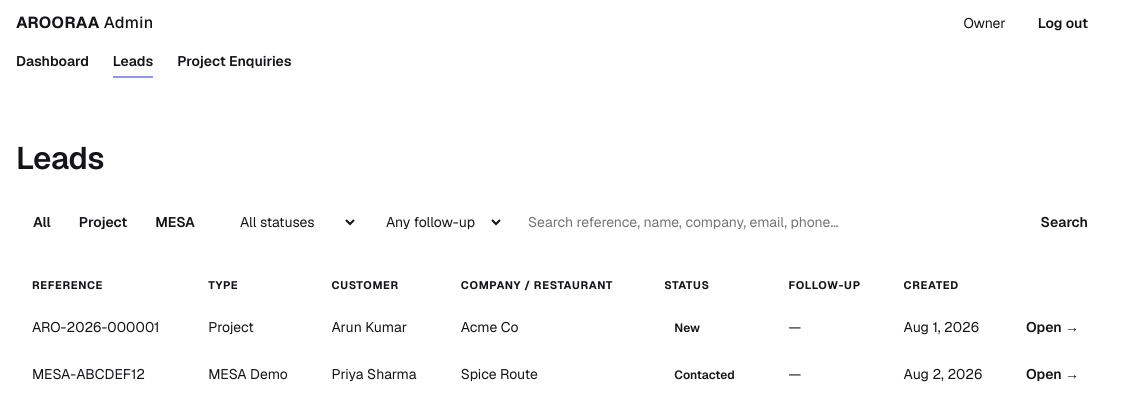
Test: AdminLeadsListPage › searches leads
Expected: the text "Arun Kumar" is shown, 316,305 -> 445,352
Type "Arun" into the search field named "Search leads" at (766, 222), box 516,204 -> 1017,240
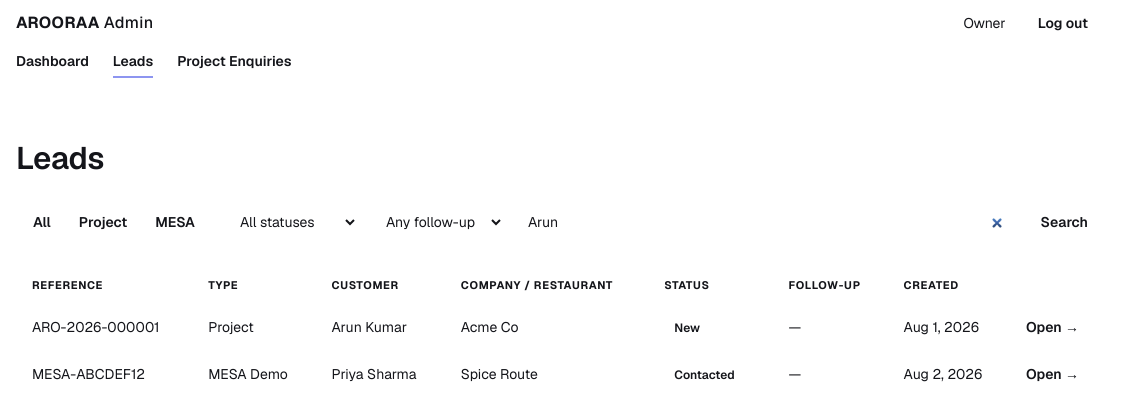
Click the button "Search" at (1064, 222), box 1025,204 -> 1104,240
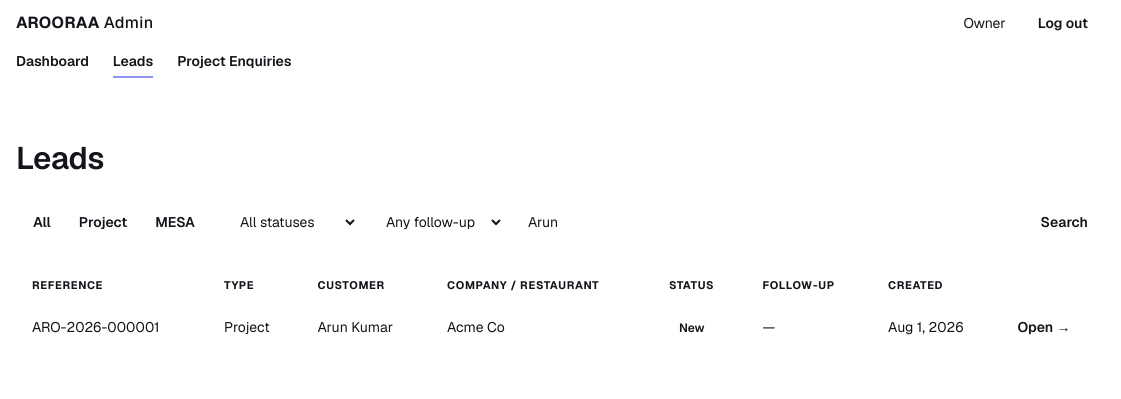
Expected: the text "Arun Kumar" is shown, 302,305 -> 431,352
Now the text "Priya Sharma" is gone
